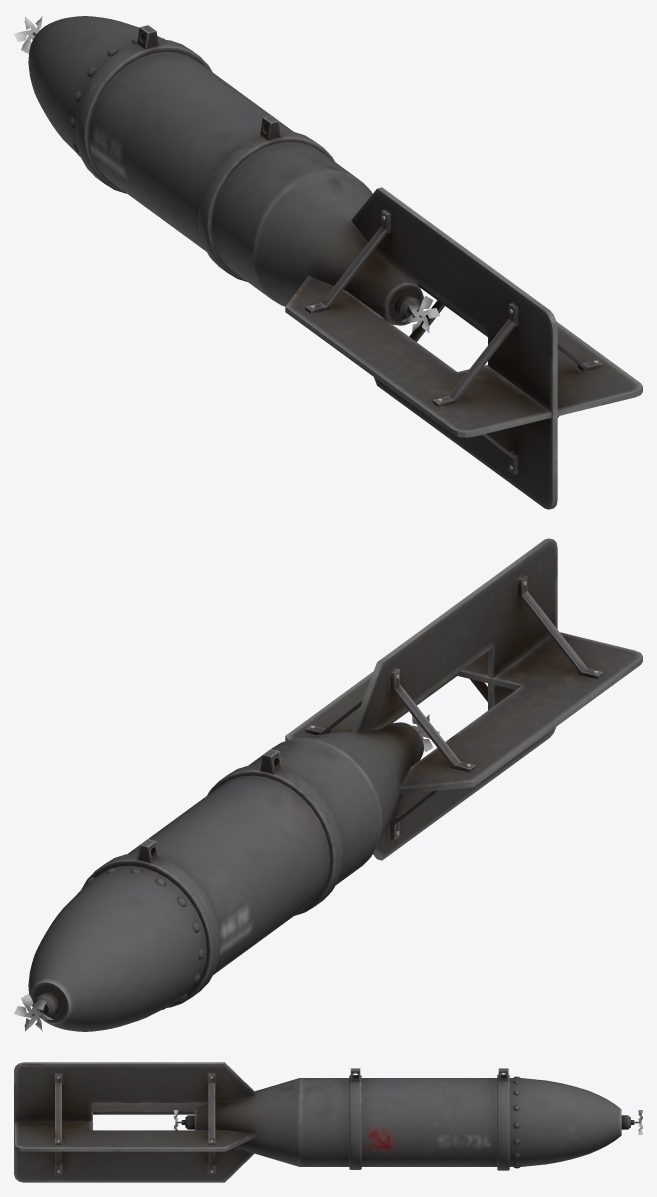
File: w_fab250.glb
3 renders of one model, top to bottom at view 1: azimuth 30°, elevation 25°; view 2: azimuth 150°, elevation 25°; view 3: azimuth 270°, elevation 25°, orthographic. The views are drawn at different scales.
Visible parts, largest first — view 1: body|Fab250; view 2: body|Fab250; view 3: body|Fab250.
Boxes of the visible parts, x1,y1,x2,y2 form: body|Fab250: [14, 16, 642, 509]; body|Fab250: [14, 538, 642, 1031]; body|Fab250: [14, 1062, 642, 1182].
Bounding box in the file's own units: 0.3113 × 0.3113 × 1.5.
1 material, 1 textured.
